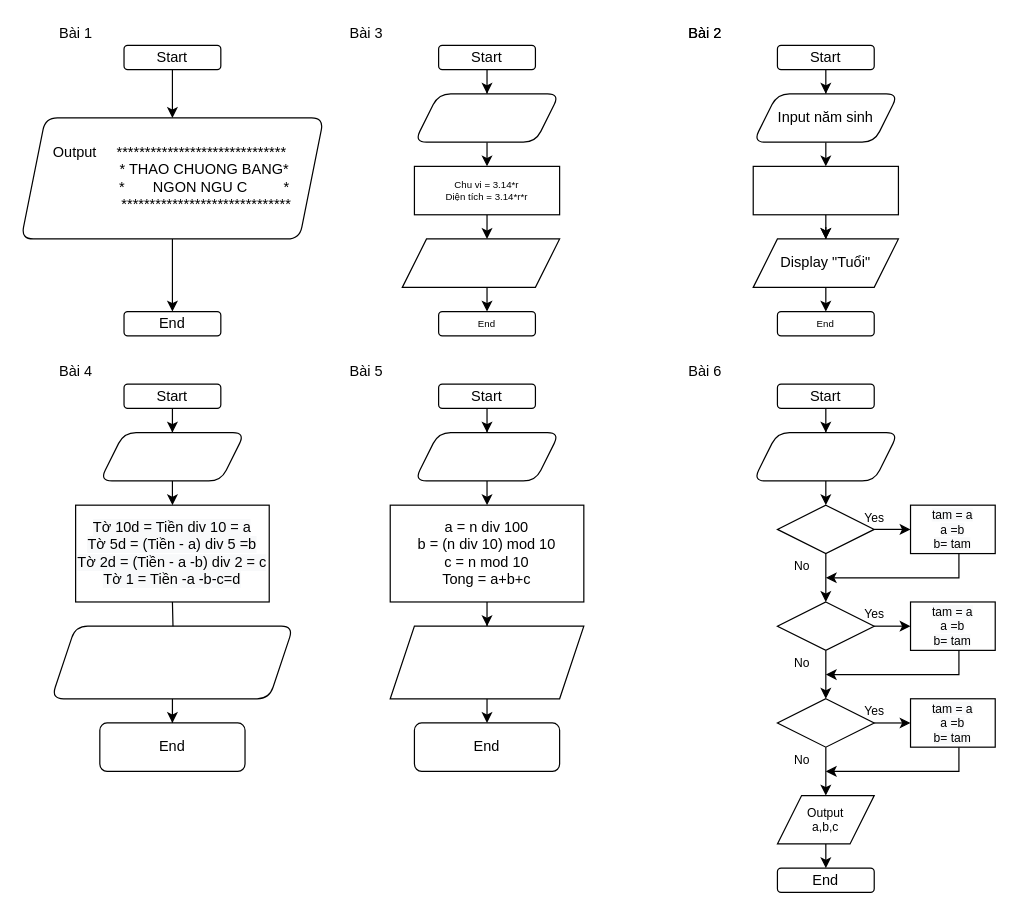
The diagram is 1016 pixels wide and 914 high, and some of its shapes have lost their labels. Here are the shapes that lost their labels. From the top down, the box of each, then its label:
(413, 93, 560, 142): Input r
(752, 165, 898, 215): Tuổi = 2021 - năm sinh
(401, 238, 560, 287): Output "chu vi" Output " diện tích"
(99, 431, 245, 481): Input Tiền
(413, 431, 560, 481): Input n
(752, 431, 898, 481): Input a,b,c
(776, 504, 874, 554): a>b
(776, 601, 874, 650): a>c
(50, 625, 293, 699): Output "a tờ 10, b tờ 5, c tờ 2, d tờ 1"
(389, 625, 584, 699): Output "Tong ="
(776, 698, 874, 747): b>c
